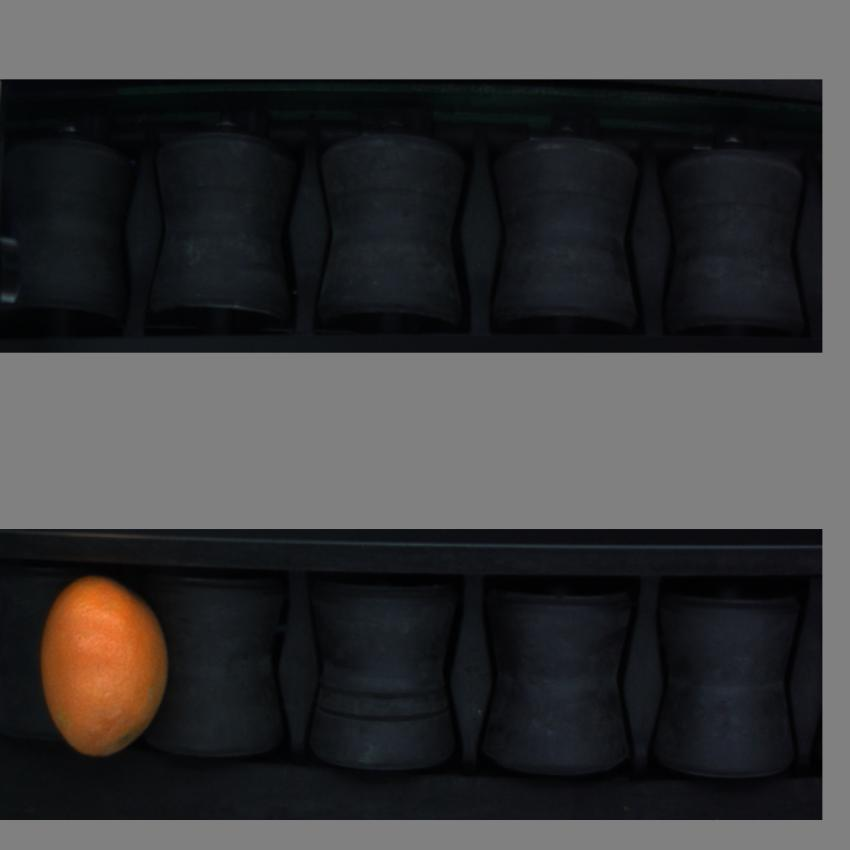Mal estado: (36, 567, 183, 768)
